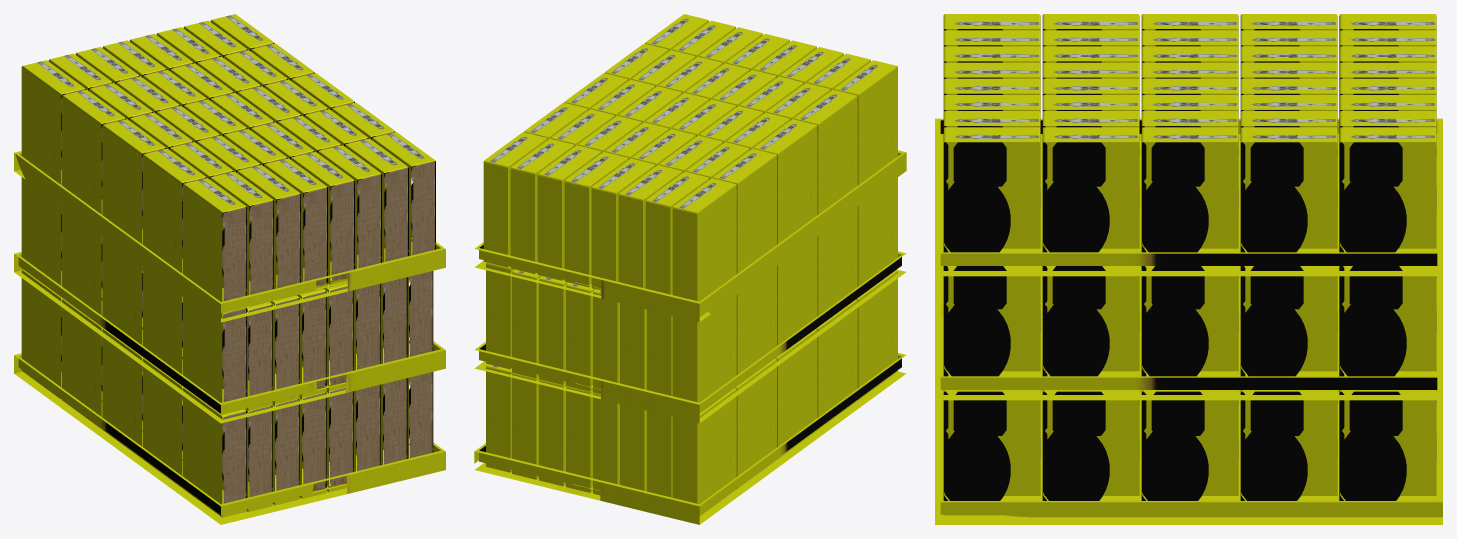
File: Mesh_Static_Cereales_0.fbx
The picture shows the model from 3 angles, left to right: view 1: azimuth 30°, elevation 25°; view 2: azimuth 150°, elevation 25°; view 3: azimuth 270°, elevation 25°; orthographic projection. The views are drawn at different scales.
Parts seen in each view (by area): view 1: Cereales; view 2: Cereales; view 3: Cereales.
Boxes of the visible parts, x1,y1,x2,y2 form: Cereales: (14,14,445,524); Cereales: (474,14,906,524); Cereales: (935,14,1442,524).
Size of the model in its own units: 111 by 146 by 177.
